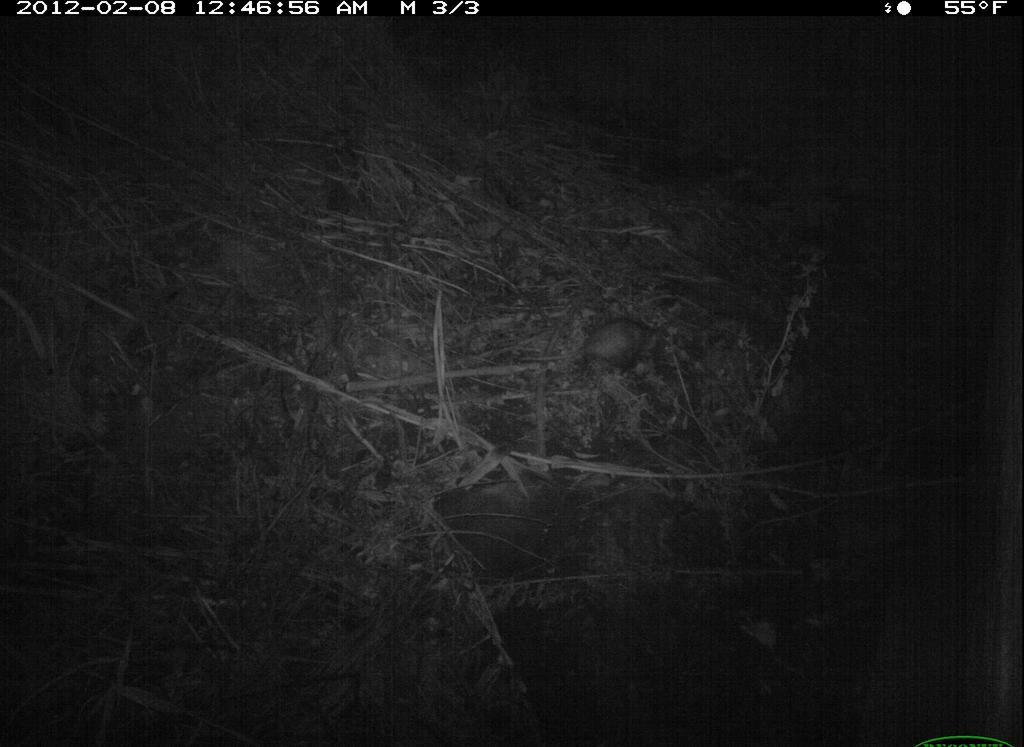opossum: (517, 317, 666, 378)
